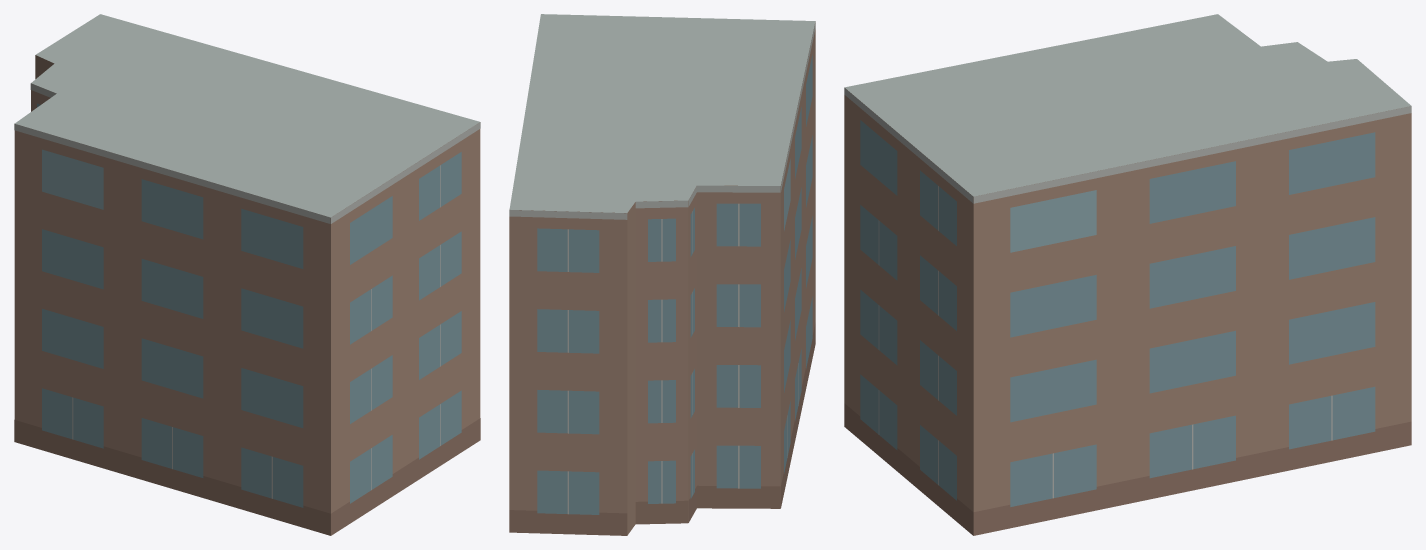
Rendered from survey-upis-32993136.glb.
The picture shows the model from 3 angles, left to right: view 1: azimuth 30°, elevation 25°; view 2: azimuth 150°, elevation 25°; view 3: azimuth 270°, elevation 25°; orthographic projection. The views are drawn at different scales.
Parts seen in each view (by area): view 1: survey-upis-32993136.tmp; view 2: survey-upis-32993136.tmp; view 3: survey-upis-32993136.tmp.
Part boxes in pixels (x1,y1,x2,y2): survey-upis-32993136.tmp: (14, 14, 480, 535); survey-upis-32993136.tmp: (509, 14, 815, 535); survey-upis-32993136.tmp: (844, 14, 1411, 535).
Bounding box in the file's own units: 13.52 × 11.7 × 17.74.
